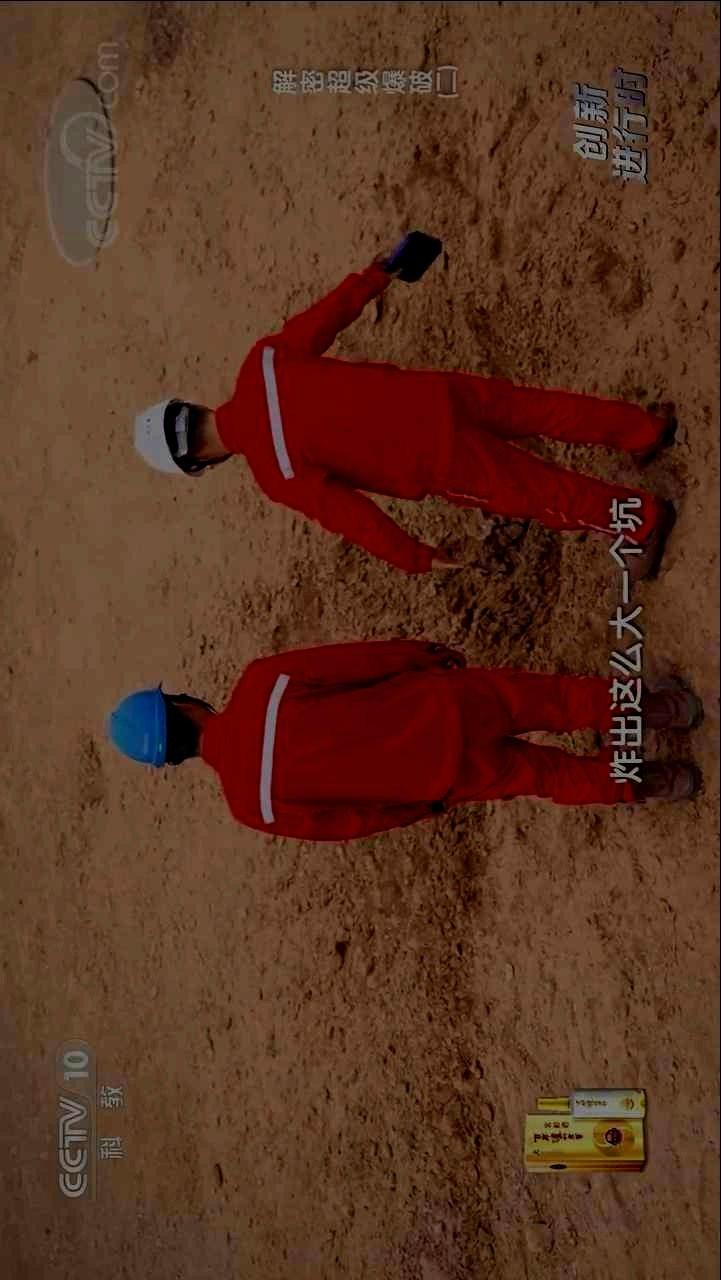helmet: (105, 680, 211, 768), (132, 397, 233, 479)
